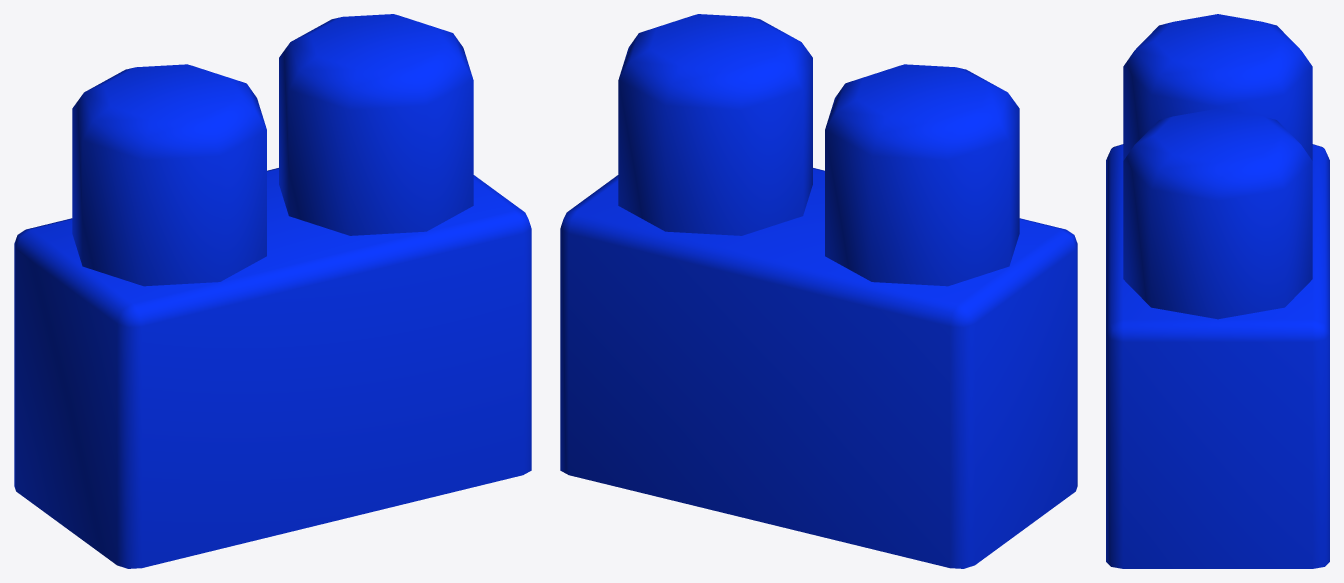
Rendered from plastic_block_2x1_01.FBX.
3 views of the same model, side by side, from view 1: azimuth 30°, elevation 25°; view 2: azimuth 150°, elevation 25°; view 3: azimuth 270°, elevation 25° (orthographic). The views are drawn at different scales.
Parts seen in each view (by area): view 1: plastic_block_2x1_01, plastic_block_2x1_01_knot; view 2: plastic_block_2x1_01, plastic_block_2x1_01_knot; view 3: plastic_block_2x1_01, plastic_block_2x1_01_knot.
Part boxes in pixels (bbox=[...]): plastic_block_2x1_01: bbox=[14, 168, 531, 568]; plastic_block_2x1_01_knot: bbox=[72, 14, 473, 286]; plastic_block_2x1_01: bbox=[560, 168, 1077, 568]; plastic_block_2x1_01_knot: bbox=[618, 14, 1019, 286]; plastic_block_2x1_01: bbox=[1106, 144, 1329, 568]; plastic_block_2x1_01_knot: bbox=[1123, 14, 1312, 319].
Size of the model in its own units: 300 by 285 by 150.
